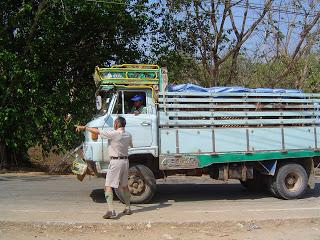truck: (82, 62, 320, 205)
